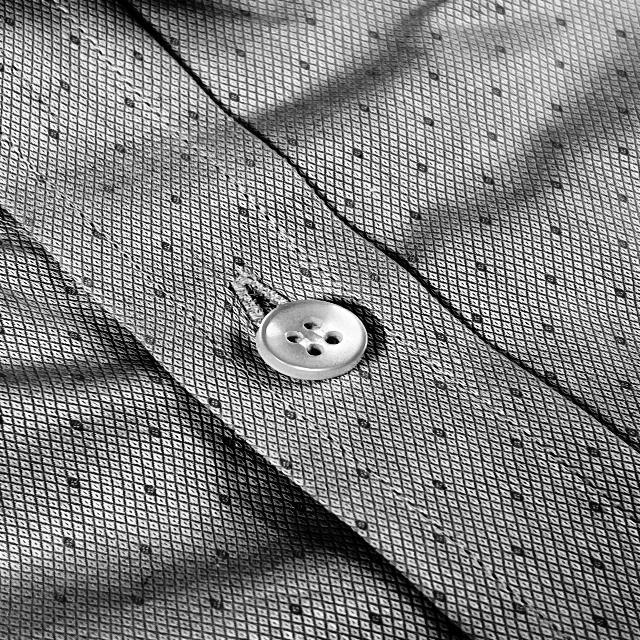Button_hike: (216, 268, 368, 386)
